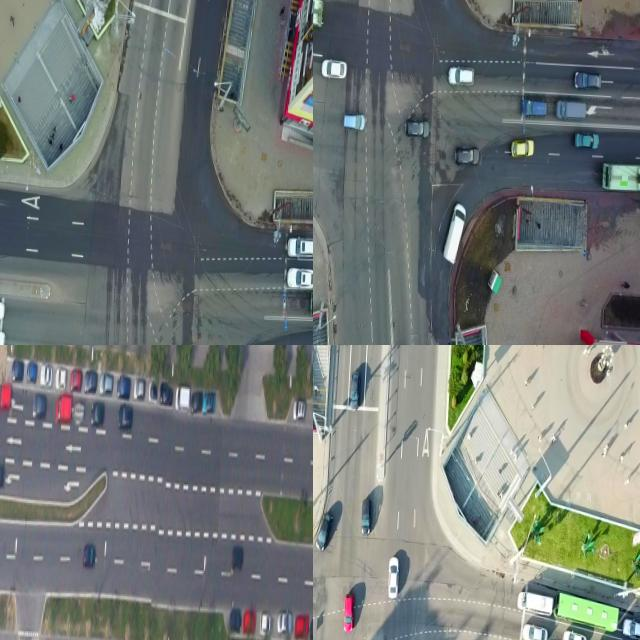UAI: (316, 511, 333, 552), (286, 235, 313, 260), (286, 267, 313, 290), (447, 66, 475, 88), (454, 145, 481, 167), (342, 111, 367, 134), (405, 118, 431, 140), (321, 59, 348, 80), (520, 97, 547, 118), (574, 71, 602, 91), (574, 131, 600, 152), (387, 557, 400, 599), (55, 394, 72, 425), (511, 137, 535, 158), (349, 371, 361, 412), (343, 594, 355, 632), (522, 623, 548, 640), (361, 499, 373, 535), (277, 611, 293, 636), (32, 392, 46, 420), (118, 405, 133, 431), (175, 386, 190, 412), (622, 619, 640, 640), (91, 402, 105, 428), (295, 613, 309, 639), (117, 374, 131, 399), (243, 607, 256, 633), (83, 544, 96, 569), (230, 607, 243, 632), (84, 369, 97, 394), (160, 383, 174, 406), (99, 372, 113, 395), (0, 383, 11, 412), (259, 610, 271, 635), (231, 546, 243, 571), (40, 364, 53, 387), (73, 399, 84, 426), (293, 399, 306, 421), (11, 360, 24, 382), (202, 391, 216, 411), (70, 369, 82, 392), (55, 367, 67, 390), (562, 629, 587, 640), (134, 376, 146, 398), (191, 390, 202, 413), (26, 361, 37, 382), (148, 380, 157, 401), (0, 299, 6, 320), (309, 616, 313, 640), (0, 464, 4, 487)
car: (554, 592, 620, 632), (601, 161, 640, 193)
harvester: (442, 201, 467, 266), (517, 591, 554, 616), (555, 98, 588, 121)
